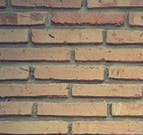brick: (31, 27, 104, 43), (36, 102, 106, 118), (1, 83, 68, 99), (1, 48, 71, 63), (74, 47, 143, 62), (71, 83, 143, 97), (71, 120, 143, 134), (33, 65, 104, 79), (1, 120, 70, 133), (50, 13, 125, 22), (106, 27, 143, 45), (1, 12, 46, 24), (11, 1, 82, 8), (1, 101, 34, 116), (109, 102, 143, 116), (108, 66, 143, 79), (1, 65, 31, 80), (1, 27, 29, 43), (86, 1, 140, 9), (129, 11, 143, 26)
